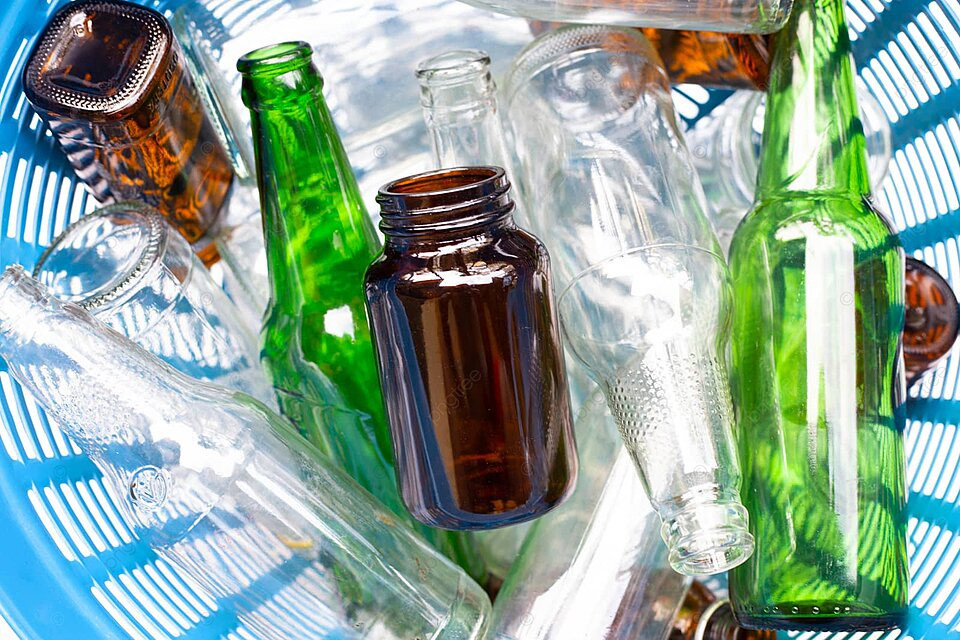glass_bottle: (1, 1, 958, 638)
